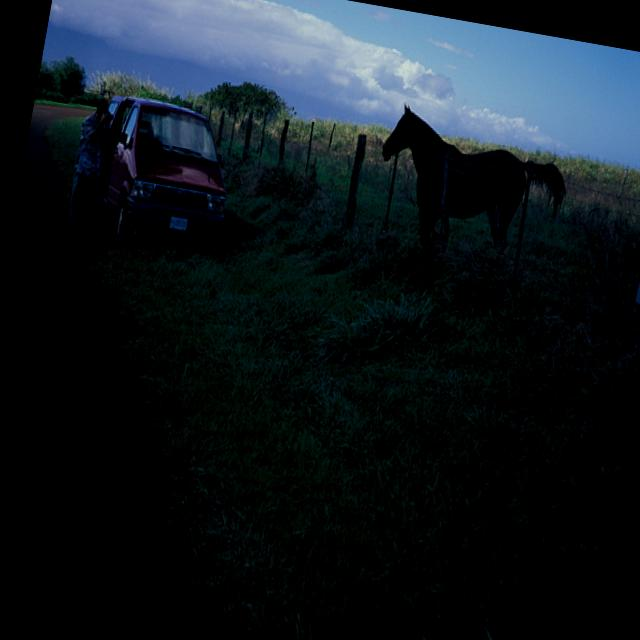Vehicle: (84, 89, 245, 246)
